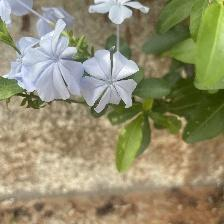chitrak: (22, 28, 80, 100), (79, 51, 145, 113), (87, 1, 152, 28)
